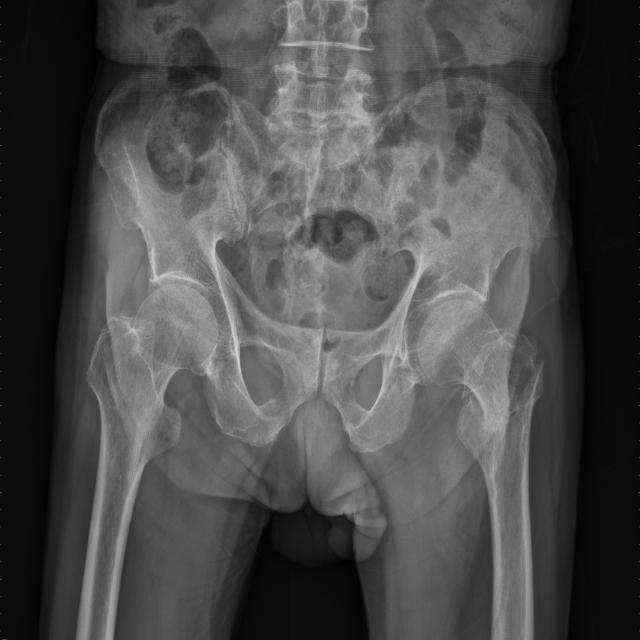left-intertrochanteric: (456, 328, 546, 523), (417, 299, 519, 423)
normal-right: (86, 284, 219, 540)
